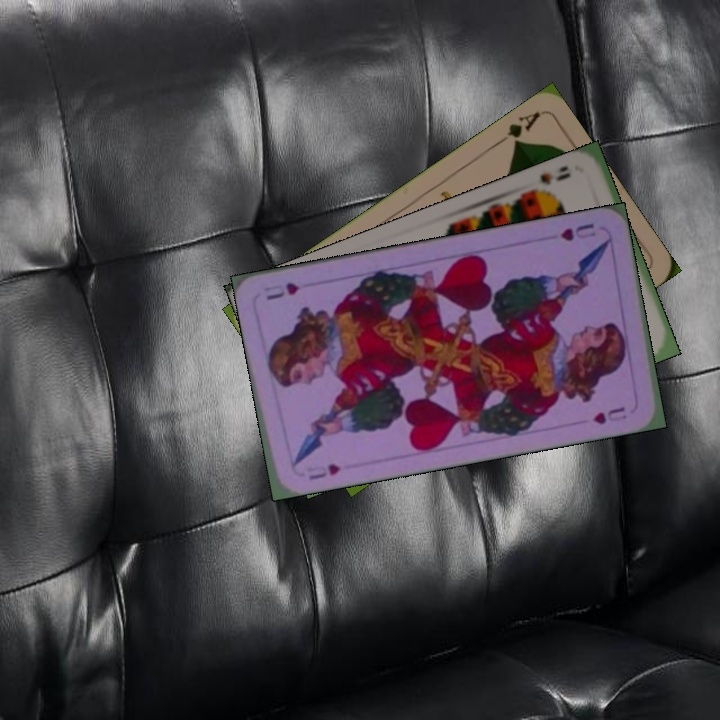GA: (491, 107, 543, 150)
HU: (557, 219, 599, 244), (305, 459, 343, 482)
S9: (525, 161, 573, 196)
